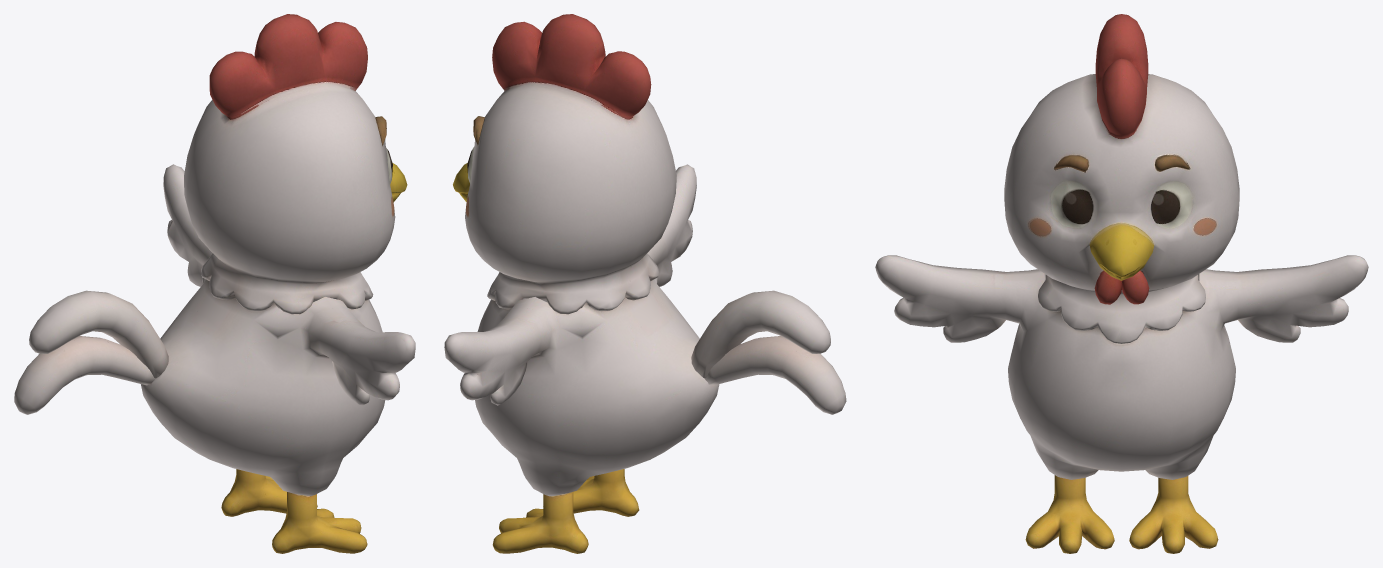
The model's file is Chicken.fbx.
3 renders of one model, left to right at view 1: azimuth 30°, elevation 25°; view 2: azimuth 150°, elevation 25°; view 3: azimuth 270°, elevation 25°, orthographic.
Parts seen in each view (by area): view 1: tripo_node_70b6d5e8; view 2: tripo_node_70b6d5e8; view 3: tripo_node_70b6d5e8.
Part boxes in pixels (x1=…): tripo_node_70b6d5e8: x1=14, y1=14, x2=415, y2=553; tripo_node_70b6d5e8: x1=444, y1=14, x2=846, y2=553; tripo_node_70b6d5e8: x1=875, y1=14, x2=1368, y2=553.
Size of the model in its own units: 0.7988 by 0.998 by 0.8652.
Materials: 1 (1 with a texture image).
